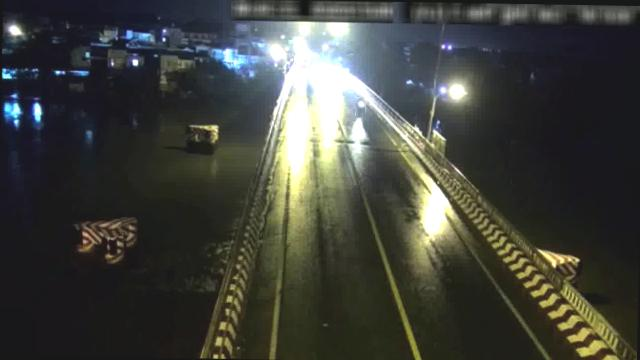Bike: (356, 98, 367, 119)
